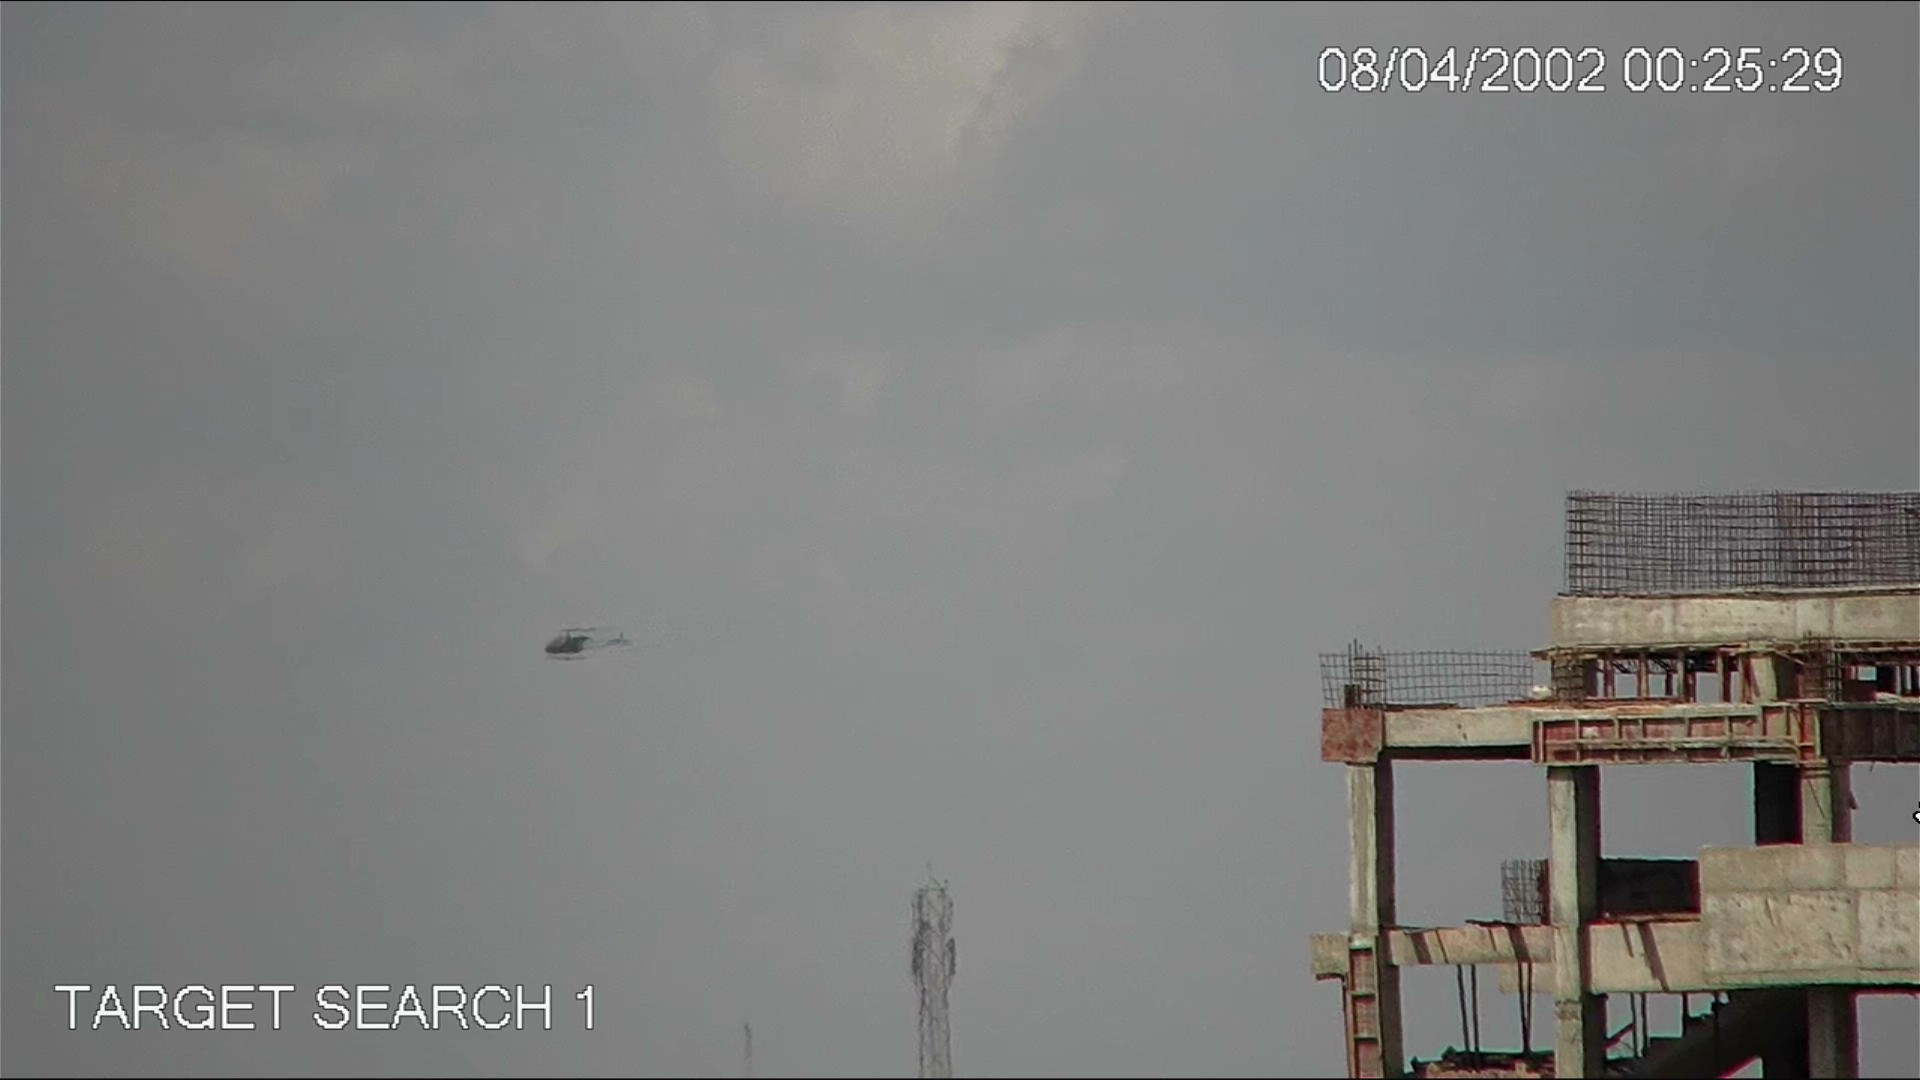SU_30: (539, 618, 634, 665)
